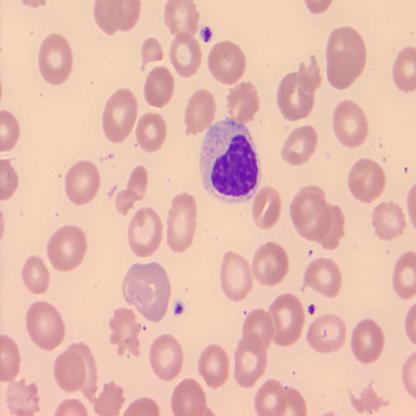Metamyelocyte: (198, 116, 263, 207)
